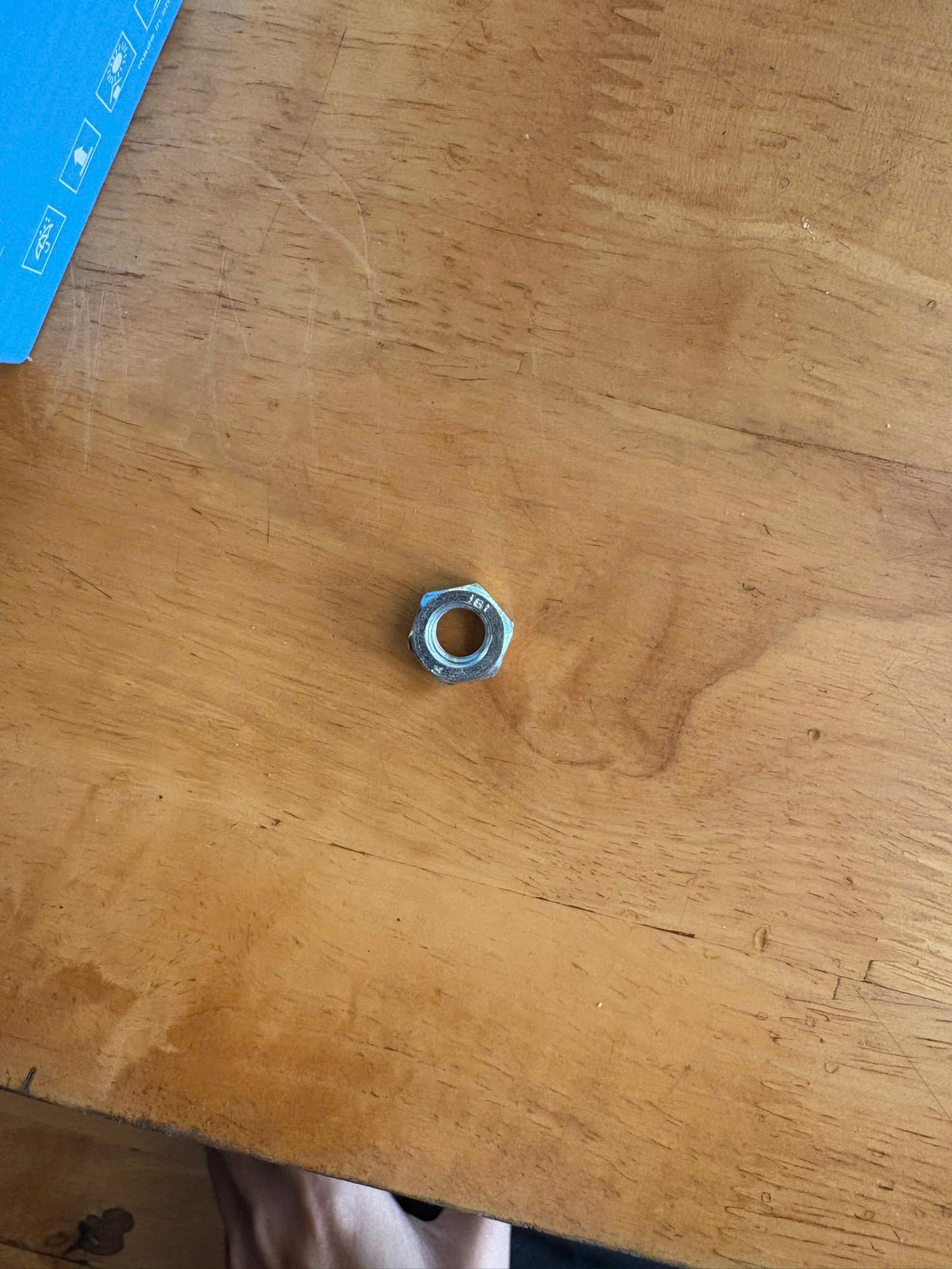nut: (397, 566, 526, 706)
